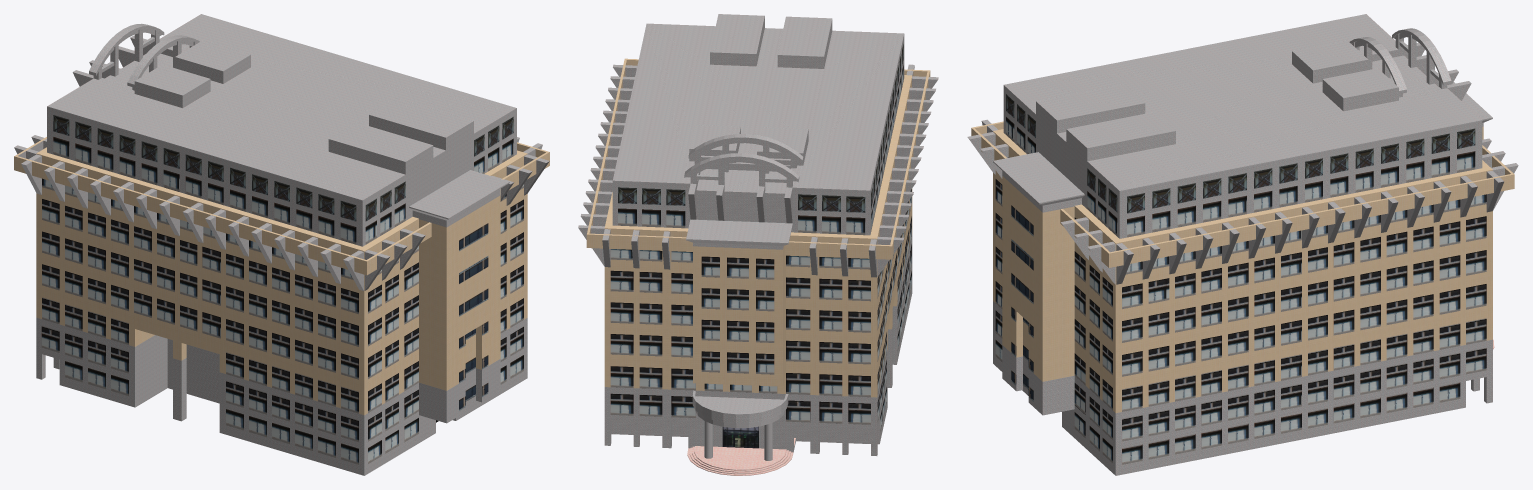
Rendered from 綜一館.glb.
The picture shows the model from 3 angles, left to right: view 1: azimuth 30°, elevation 25°; view 2: azimuth 150°, elevation 25°; view 3: azimuth 270°, elevation 25°; orthographic projection. The views are drawn at different scales.
Visible parts, largest first — view 1: _G-Object (Loose Mesh); view 2: _G-Object (Loose Mesh), G-Object.001; view 3: _G-Object (Loose Mesh).
Part boxes in pixels (x1,y1,x2,y2): _G-Object (Loose Mesh): [14, 14, 549, 475]; _G-Object (Loose Mesh): [586, 14, 930, 475]; G-Object.001: [610, 249, 870, 397]; _G-Object (Loose Mesh): [971, 14, 1514, 475].
Bounding box in the file's own units: 52.37 × 36.71 × 58.79.
Materials: 8 (7 with a texture image).
